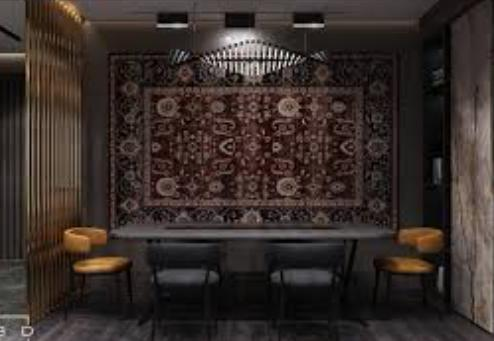carpet: (109, 39, 393, 227)
